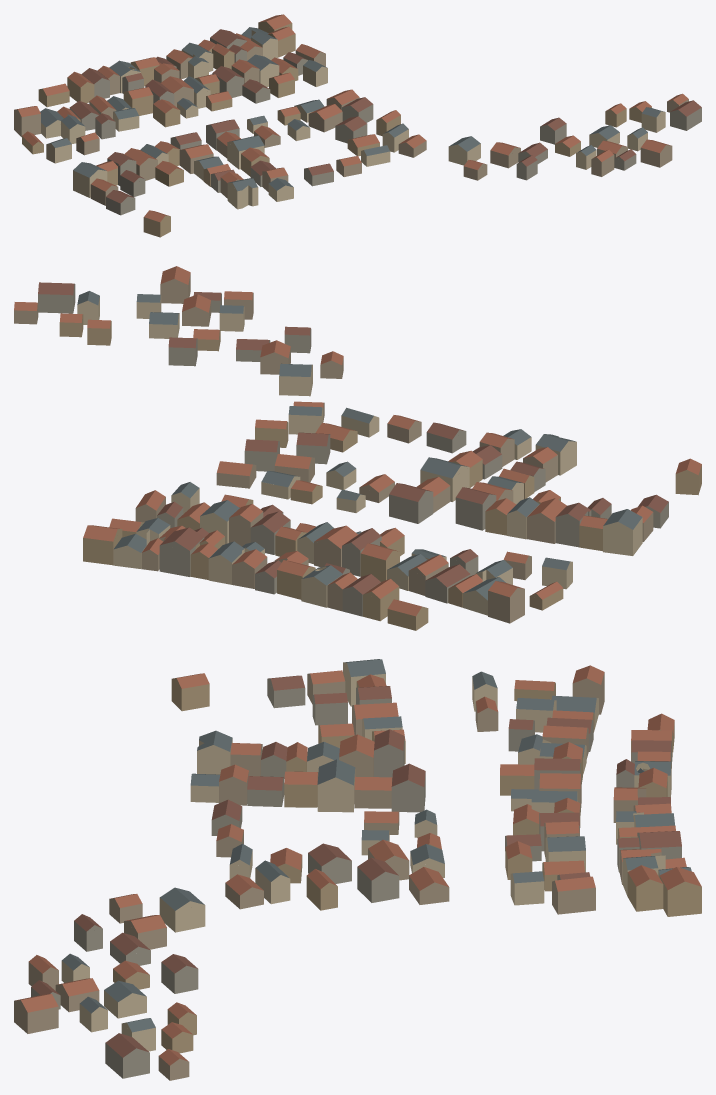
3 views of the same model, one above another, from view 1: azimuth 30°, elevation 25°; view 2: azimuth 150°, elevation 25°; view 3: azimuth 270°, elevation 25° (orthographic). The views are drawn at different scales.
Parts seen in each view (by area): view 1: C_1_-1; view 2: C_1_-1; view 3: C_1_-1.
Boxes of the visible parts, <box> form: C_1_-1: <box>14,14,701,237</box>; C_1_-1: <box>14,266,701,630</box>; C_1_-1: <box>14,659,701,1080</box>.
Size of the model in its own units: 324 by 14.41 by 240.
